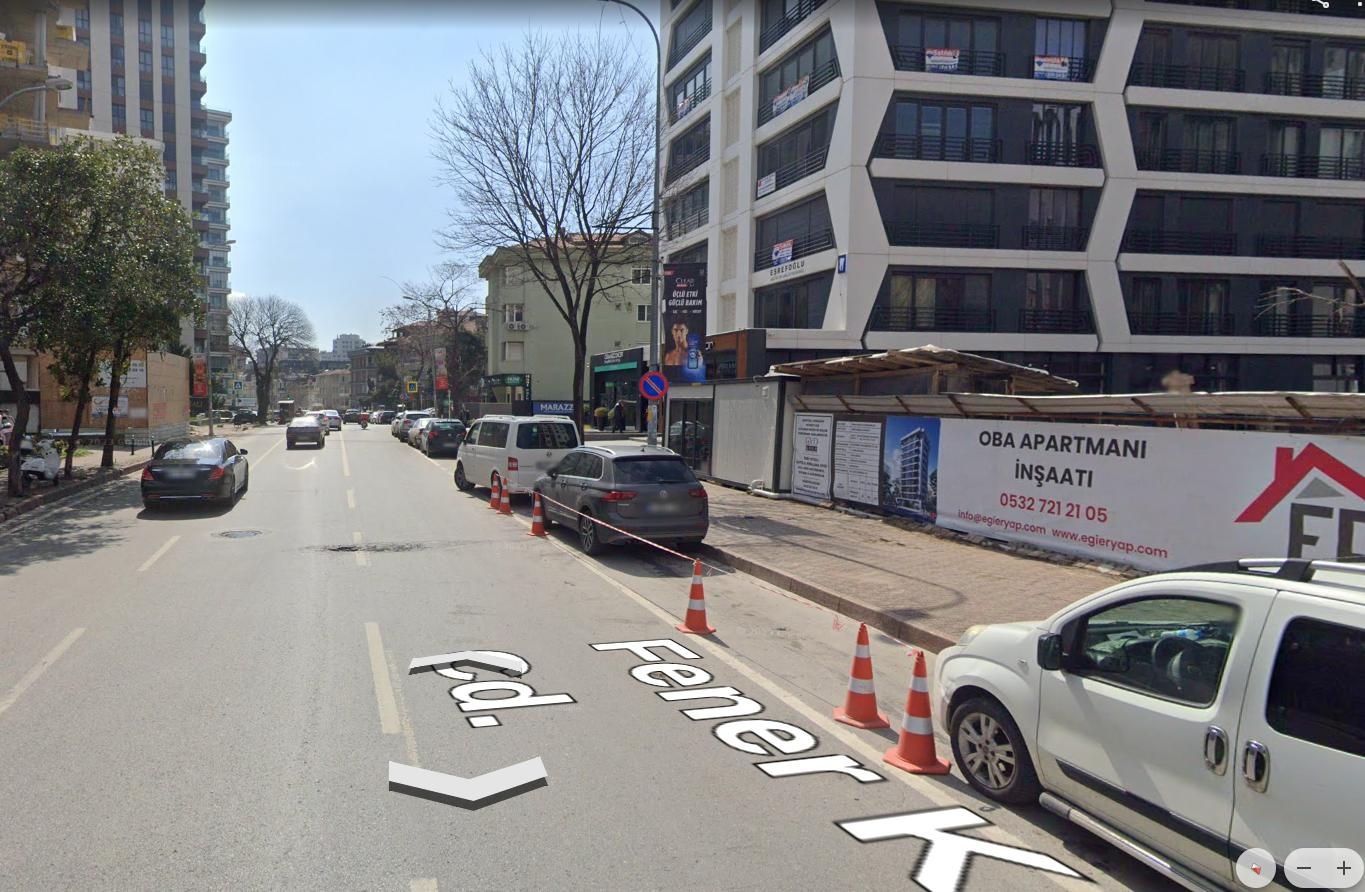nopark: (642, 373, 667, 398)
